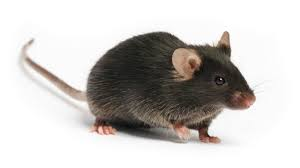mice: (19, 30, 258, 145)
